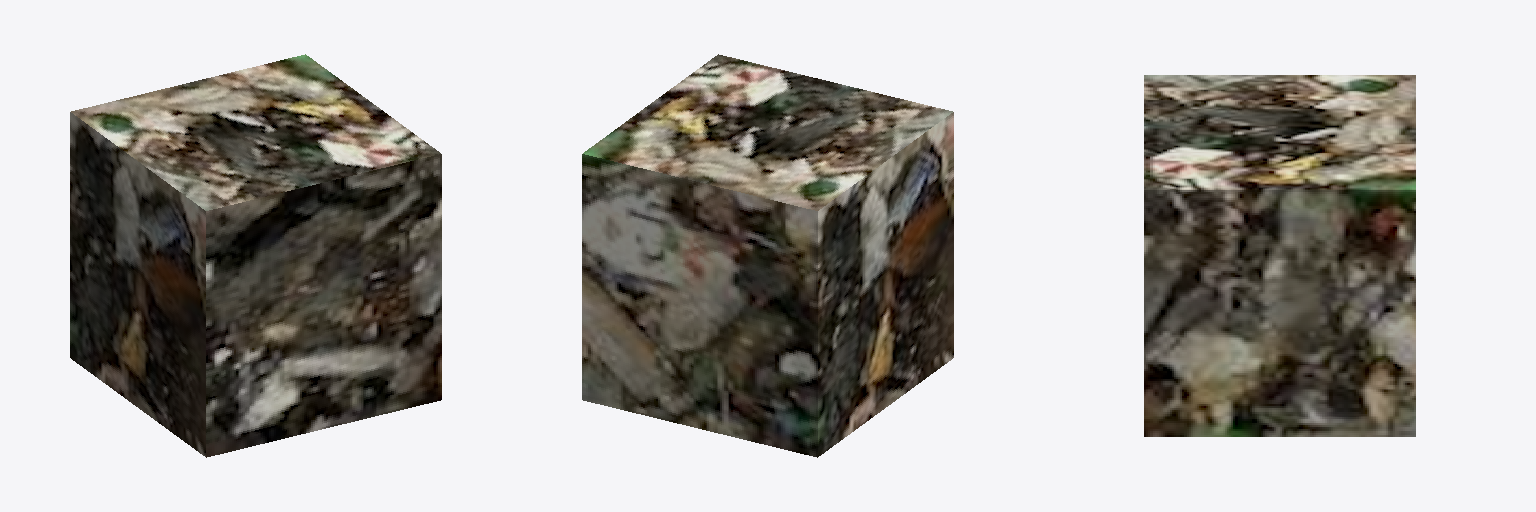
3 views of the same model, side by side, from view 1: azimuth 30°, elevation 25°; view 2: azimuth 150°, elevation 25°; view 3: azimuth 270°, elevation 25° (orthographic).
Parts seen in each view (by area): view 1: Cubo.001; view 2: Cubo.001; view 3: Cubo.001.
Boxes of the visible parts, x1,y1,x2,y2 form: Cubo.001: [70, 54, 441, 457]; Cubo.001: [582, 54, 953, 457]; Cubo.001: [1144, 75, 1415, 436].
Size of the model in its own units: 2 by 2 by 2.
Materials: 1 (1 with a texture image).